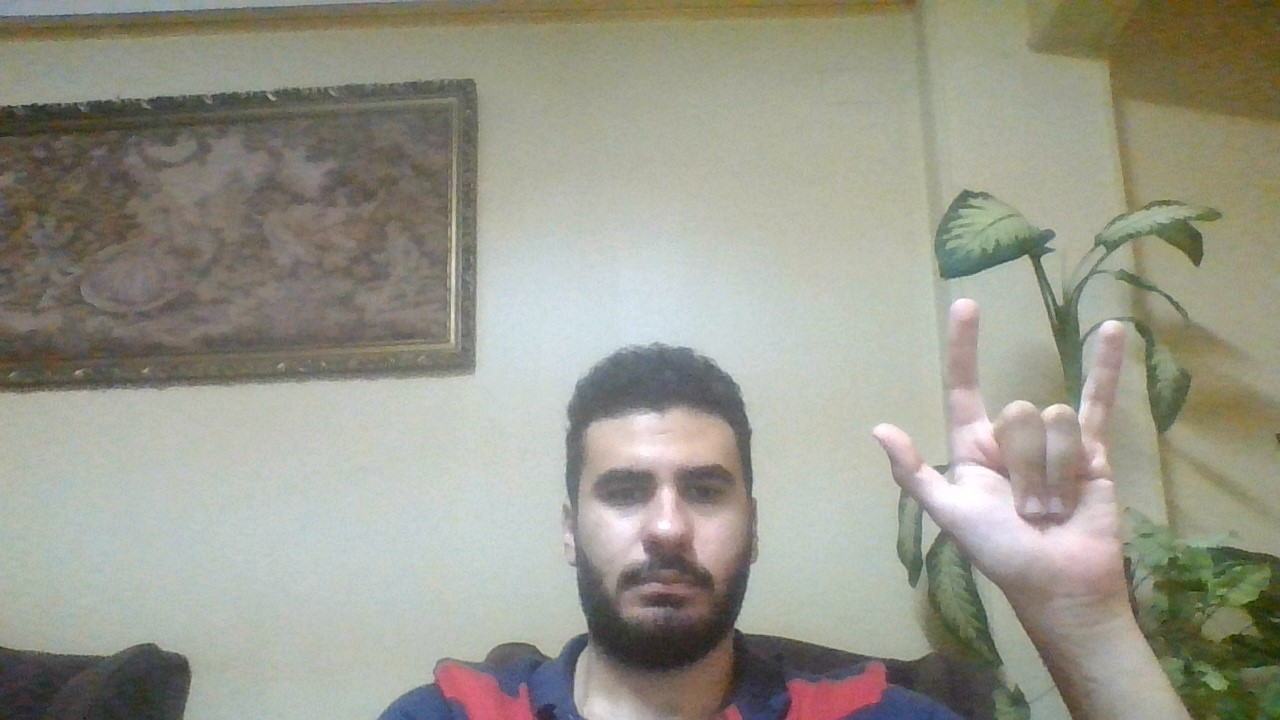love: (870, 294, 1153, 604)
